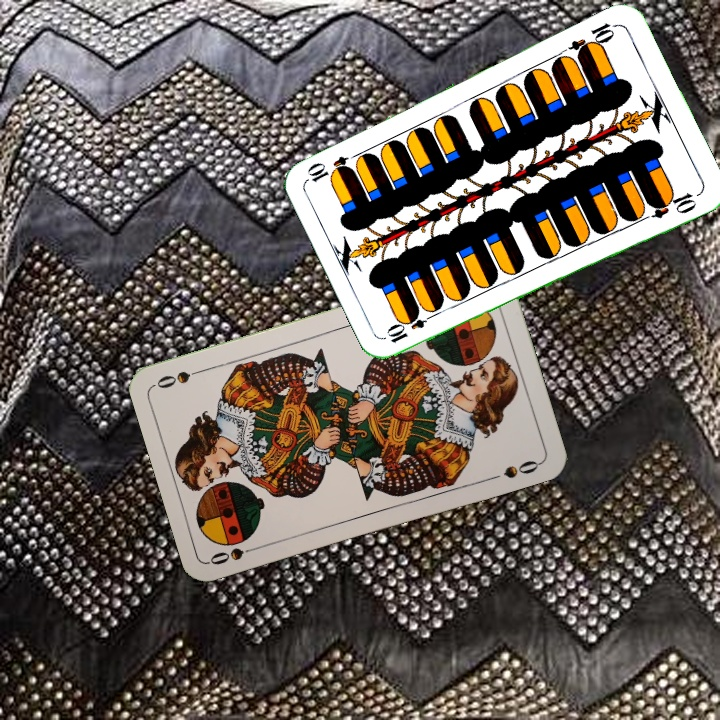E10: (565, 18, 621, 60), (383, 307, 439, 346)
SO: (206, 541, 265, 568)
